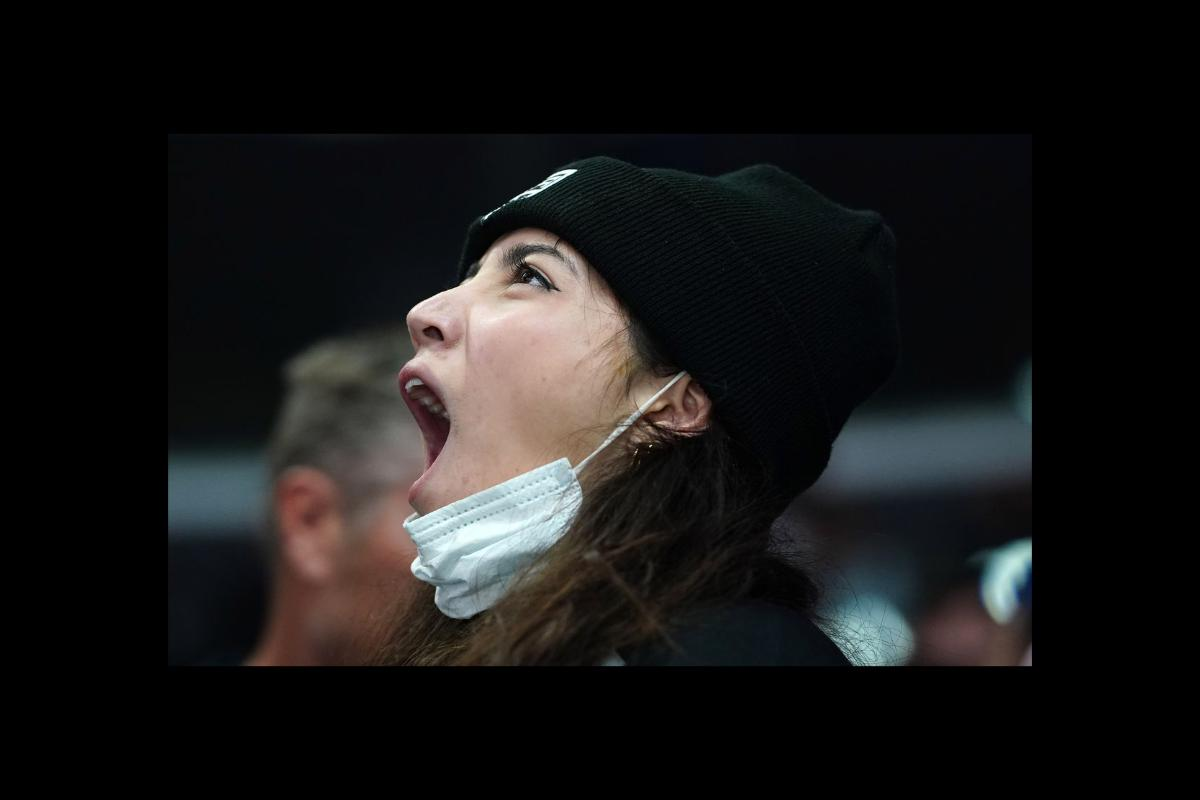mask_weared_incorrect: (353, 258, 630, 577)
